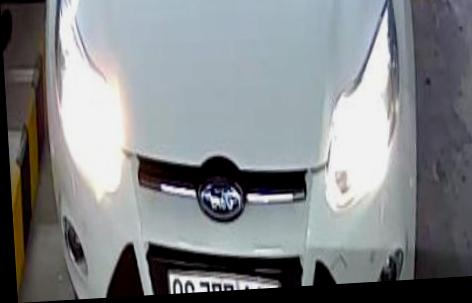License_Plate: (166, 264, 280, 293)
